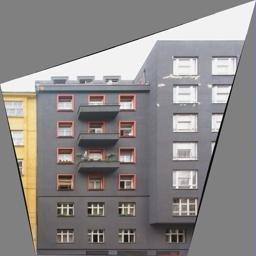building: (33, 41, 256, 252)
